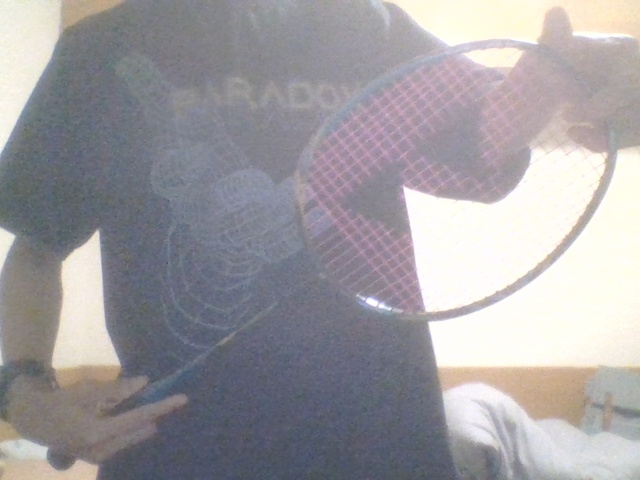racket: (46, 38, 619, 471)
